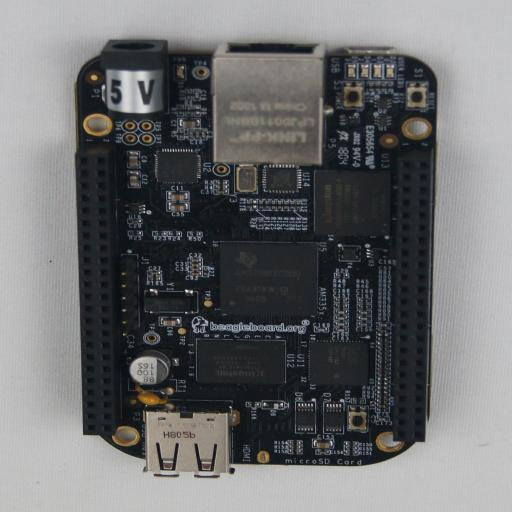Beaglebone Black: (75, 39, 437, 478)
